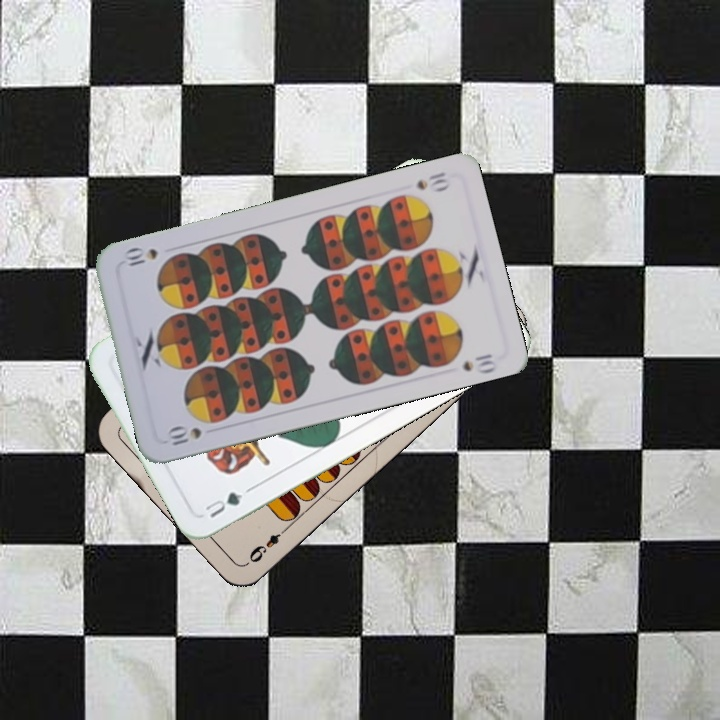E9: (243, 523, 291, 567)
GU: (201, 488, 246, 521)
S10: (163, 422, 204, 448), (412, 168, 452, 194)
